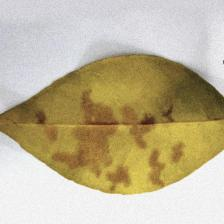black spot: (41, 97, 168, 180)
